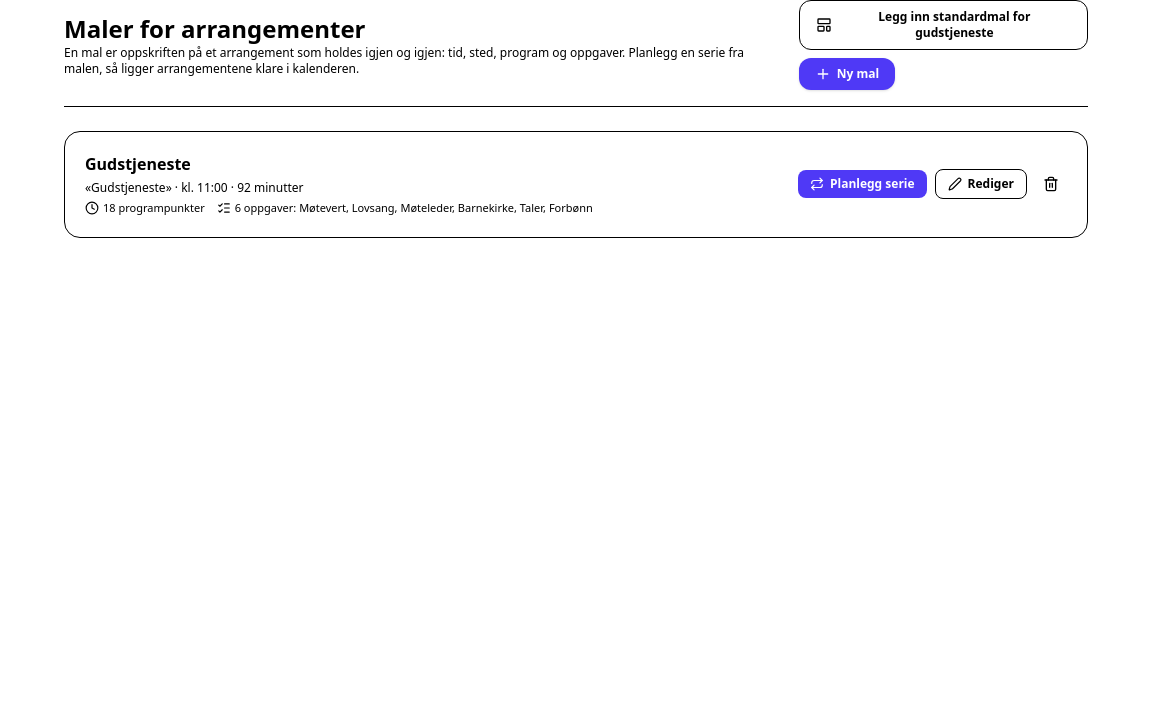
Test: Siden «Maler» › «Planlegg serie» åpner skjemaet for et nytt arrangement, fylt ut fra malen og satt til å gjentas
Click the button "Planlegg serie". click: {"x": 862, "y": 184}
box: [798,170,927,198]
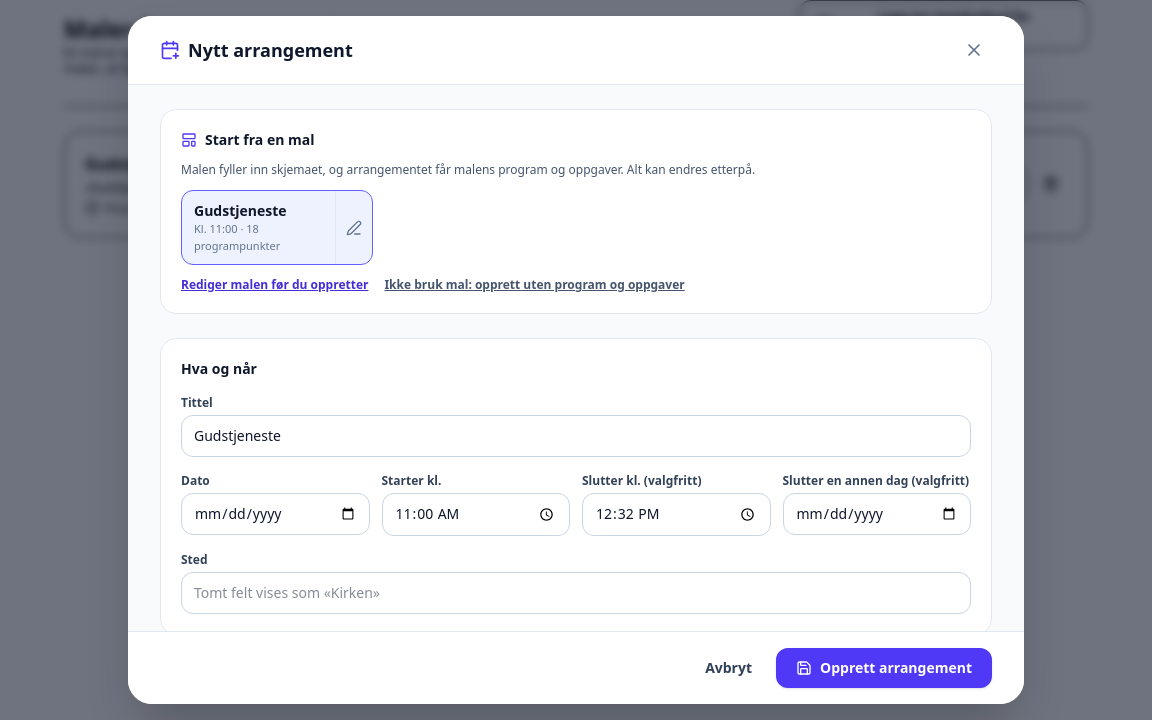
Check: the field labelled "Tittel" holds "Gudstjeneste", box [181,415,971,457]
Check: the time field labelled "Starter kl." holds "11:00", box [382,493,570,536]
Check: the time field labelled "Slutter kl. (valgfritt)" holds "12:32", box [582,493,770,536]
